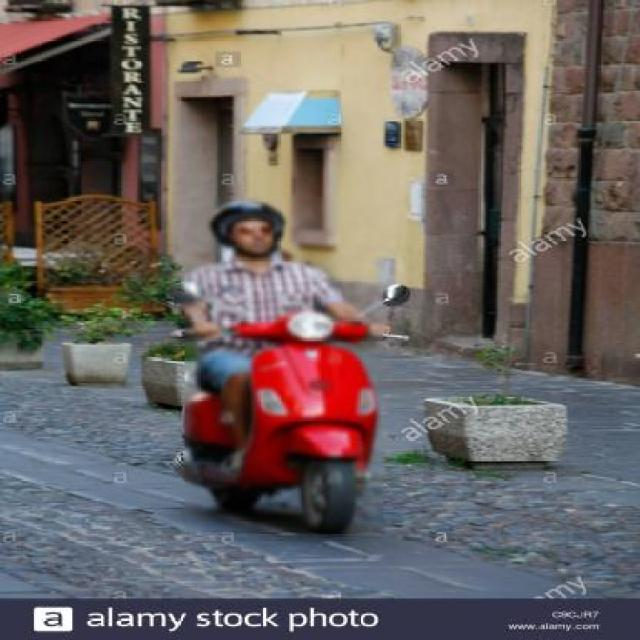helmet: (210, 185, 290, 262)
motorcycle: (151, 180, 425, 554)
